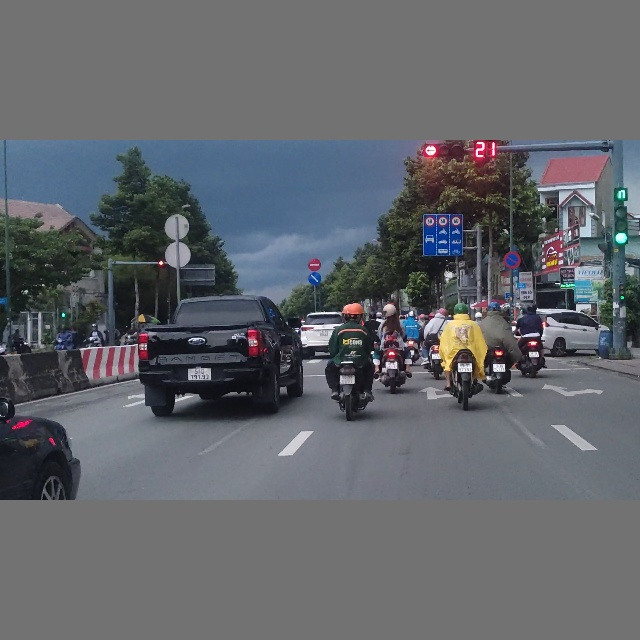P.102: (308, 258, 321, 271)
P.127*60: (451, 216, 462, 226), (425, 216, 435, 226), (438, 216, 448, 226)
P.131a: (504, 251, 521, 268)
R.302a: (308, 272, 322, 285)
R.415a: (424, 227, 462, 255)
